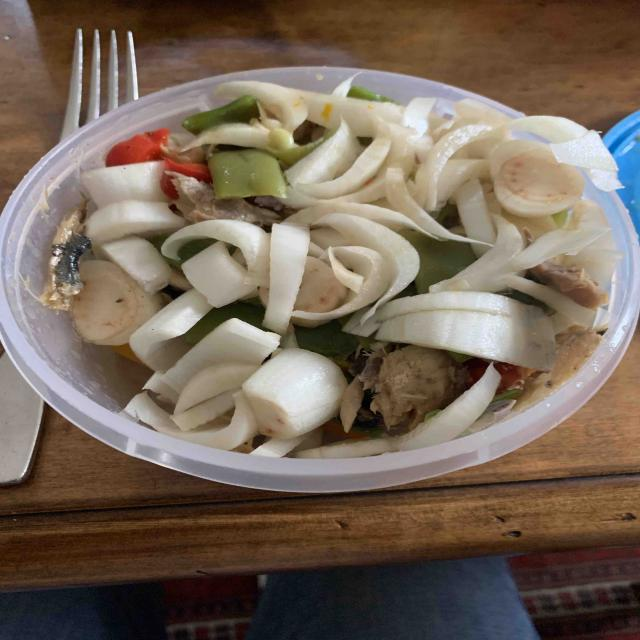witloof-chicory: (84, 70, 583, 461)
